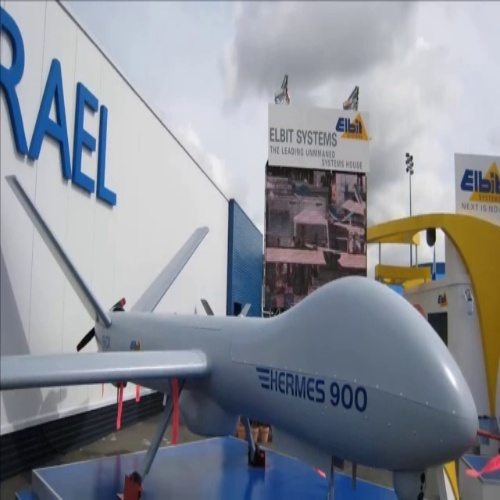uav: (2, 176, 487, 498)
